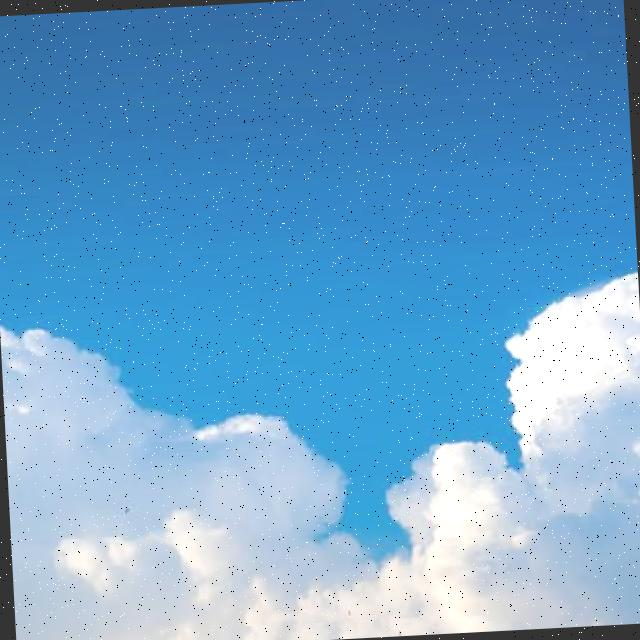Cu: (1, 274, 640, 640)
